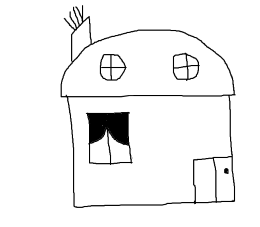closed_window: (83, 108, 136, 169), (162, 49, 208, 90), (92, 50, 135, 85)
door: (179, 149, 239, 207)
roof: (56, 28, 243, 101)
smoking_chimney: (51, 4, 103, 61)
wall: (61, 89, 239, 212)
